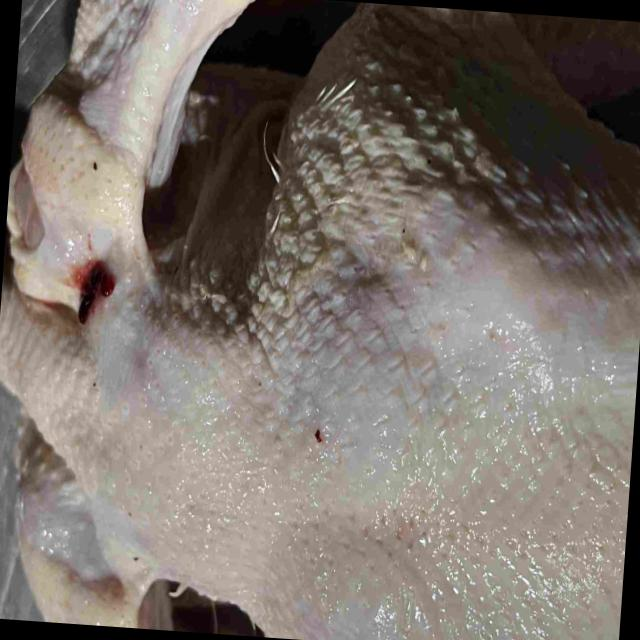back: (115, 138, 640, 640)
leg: (301, 2, 640, 122)
neck: (0, 262, 108, 455)
wing: (11, 0, 235, 265), (10, 428, 227, 634)
